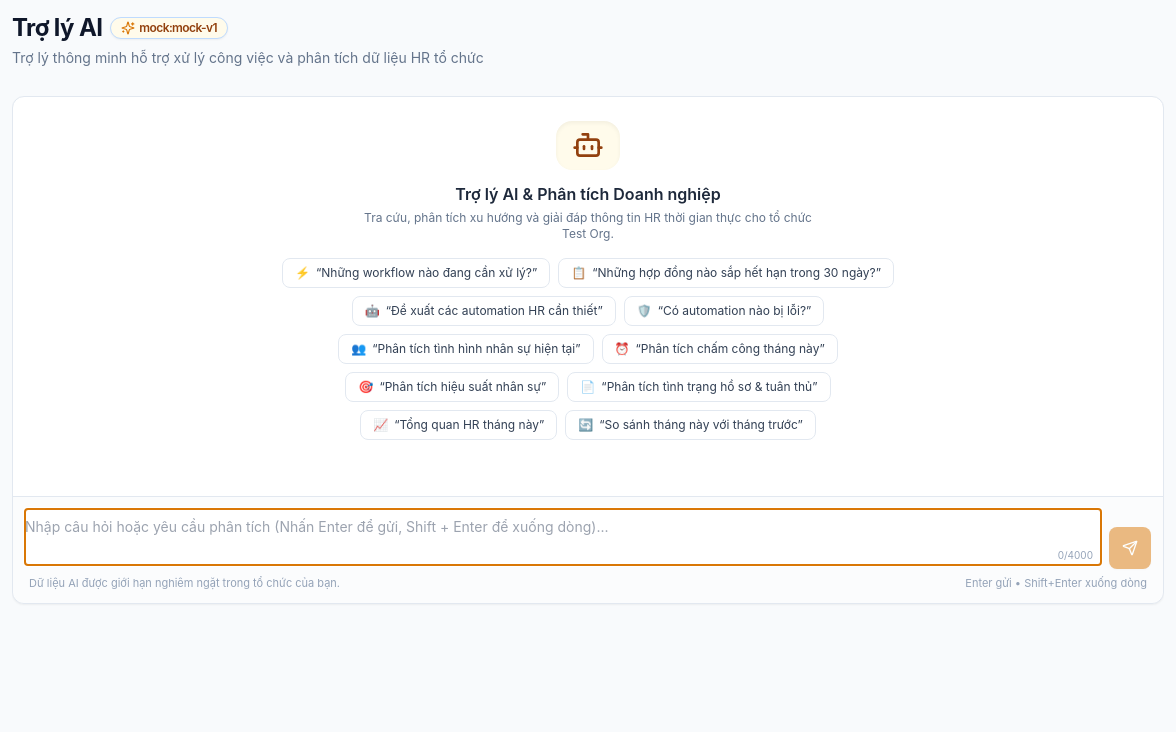
Test: AiAssistantPage (DXOS-FRONTEND-006) › 5. displays assistant response and updates provider metadata safely
(page scrolled)
Type "DX-OS là gì?" into the text box named "khung nhập tin nhắn". click: (563, 536)
box: [25, 508, 1101, 564]
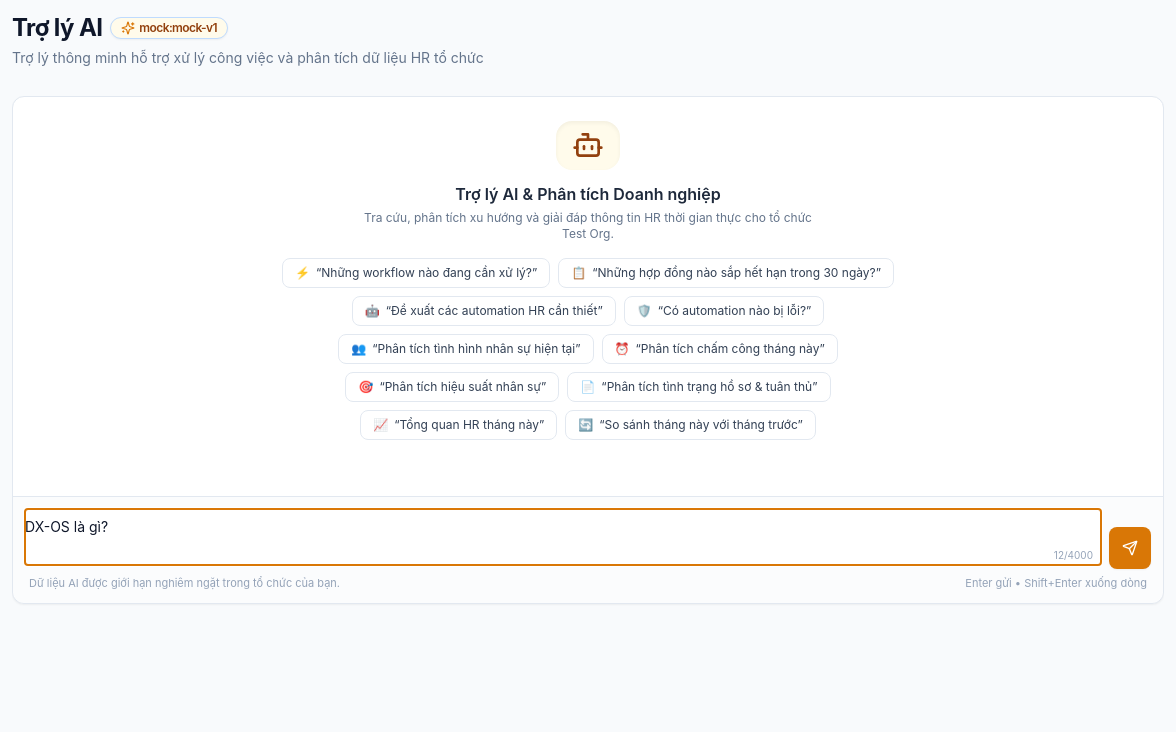
Click the button named "gửi tin nhắn". click: click(1130, 548)
box: [1109, 526, 1151, 568]
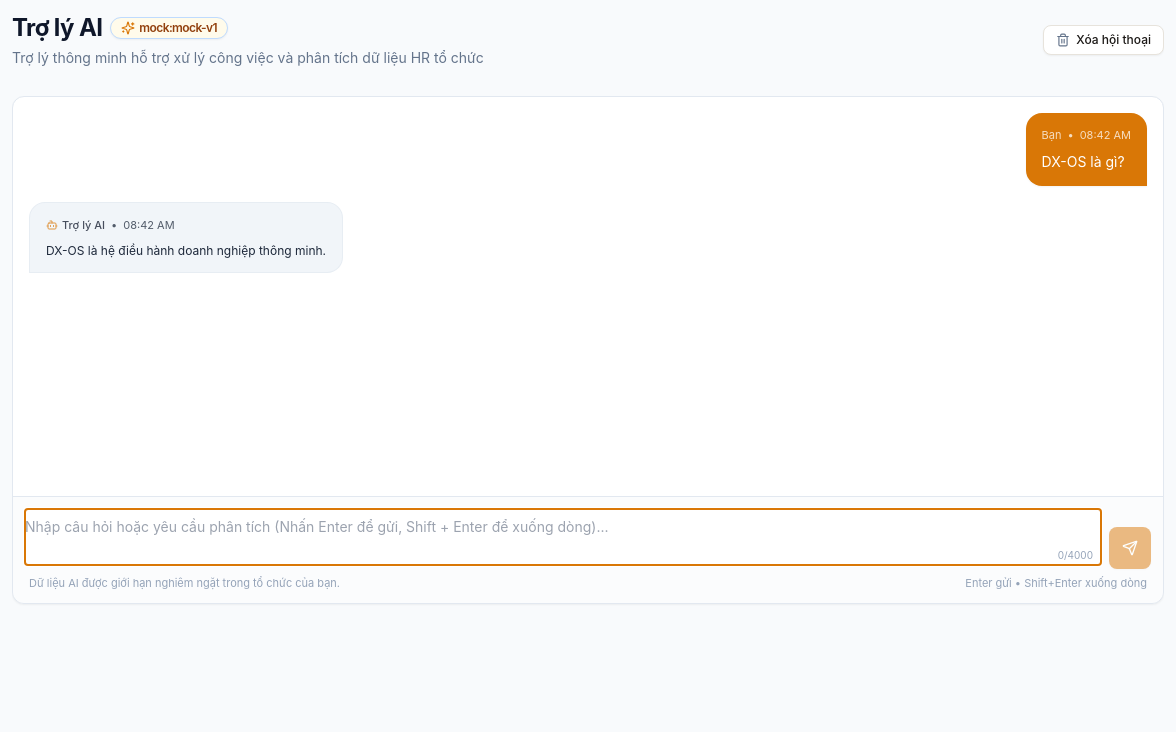
Expected: the text "mock:mock-v1" is shown, [110, 17, 228, 39]
Expected: the text "DX-OS là hệ điều hành doanh nghiệp thông minh." is shown, [46, 241, 326, 260]
